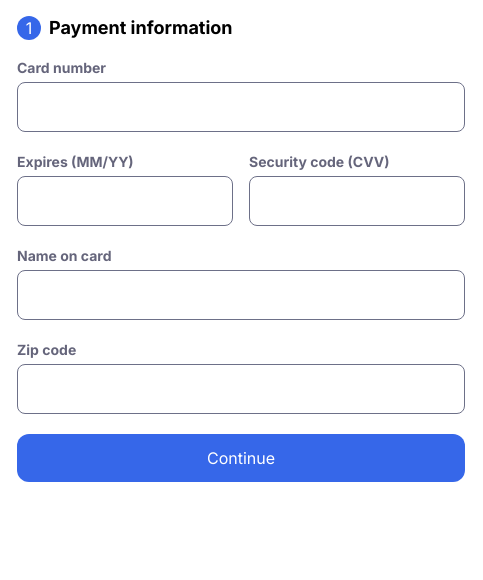
Test case: Payment page › when clicking the continue button › 5 fields will be required
The image size is (483, 580).
What coordinates should you click on to do the following:
click the button "Continue"
I would click on:
 (241, 458)
Its box is x1=17 y1=434 x2=465 y2=482.
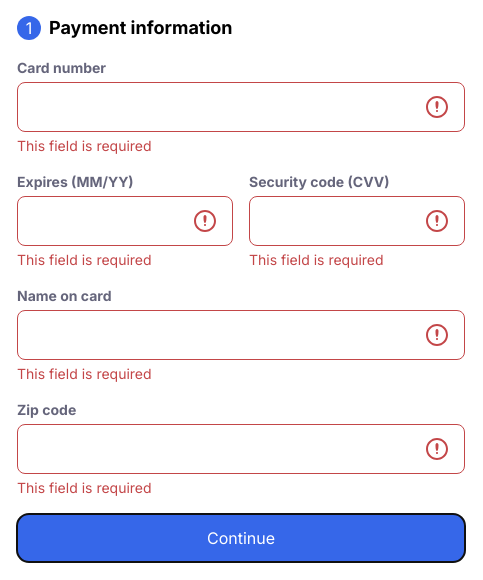
Check: the text "This field is required" is shown 5 times, box x1=17 y1=137 x2=152 y2=154; x1=17 y1=251 x2=152 y2=268; x1=249 y1=251 x2=384 y2=268; x1=17 y1=365 x2=152 y2=382; x1=17 y1=479 x2=152 y2=496
Check: the number of elements with test id "error-icon" is 5, box x1=425 y1=95 x2=449 y2=119; x1=193 y1=209 x2=217 y2=233; x1=425 y1=209 x2=449 y2=233; x1=425 y1=323 x2=449 y2=347; x1=425 y1=437 x2=449 y2=461
